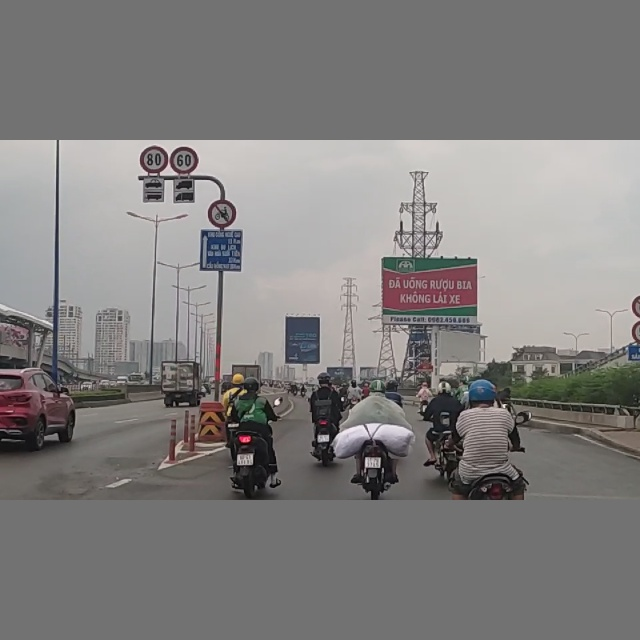P.104: (207, 198, 235, 230)
P.127*60: (171, 147, 197, 173)
P.127*80: (141, 145, 167, 173)
